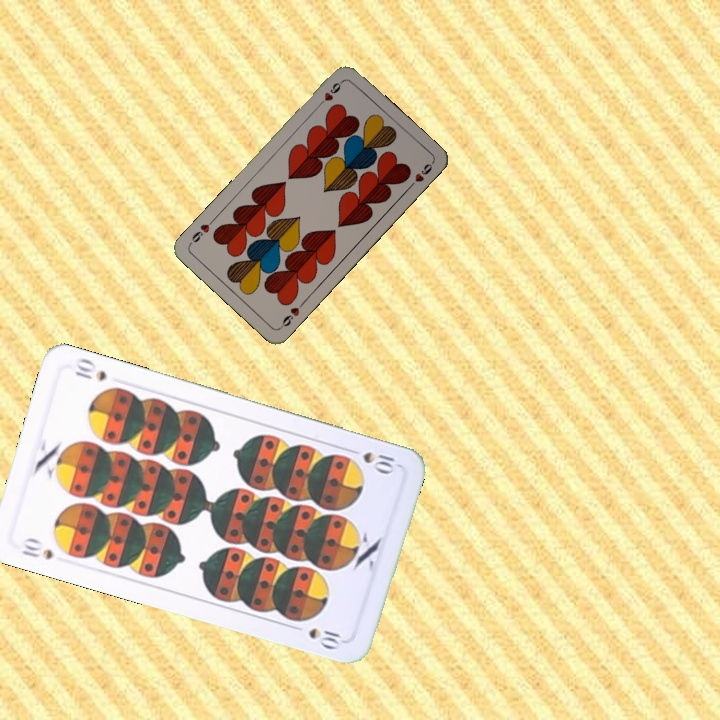H9: (314, 76, 346, 110), (276, 298, 307, 331)
S10: (358, 447, 398, 476), (17, 534, 57, 563)
